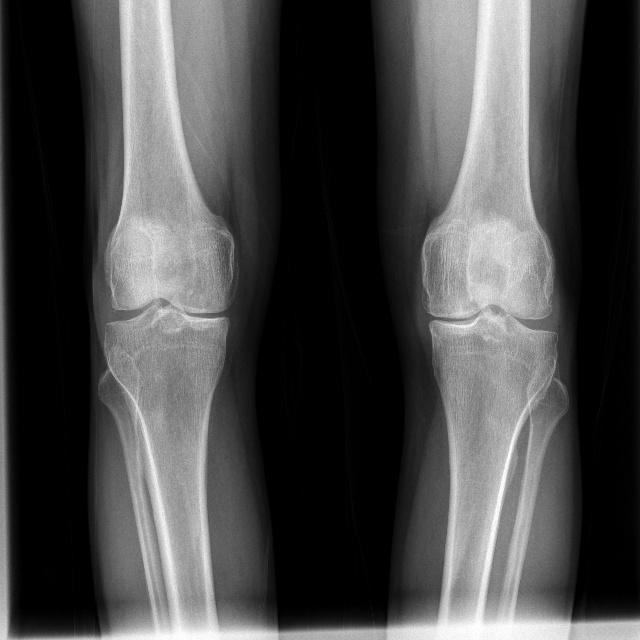Knee: (105, 235, 238, 371), (421, 250, 557, 383)
